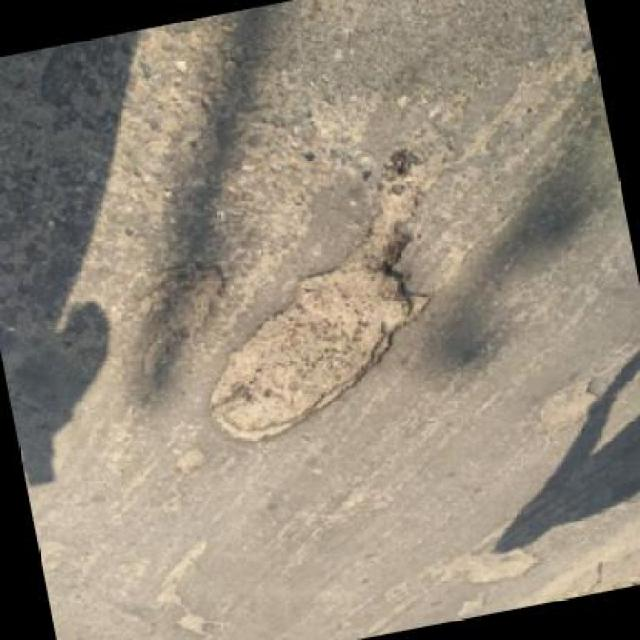pothole1: (173, 181, 470, 453), (118, 260, 242, 385), (140, 534, 238, 638), (524, 373, 611, 439), (448, 532, 543, 592), (171, 445, 212, 477), (454, 592, 489, 618)
